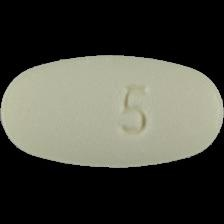61786-775: (0, 0, 224, 224)
